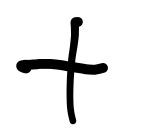plus: (17, 17, 108, 124)
